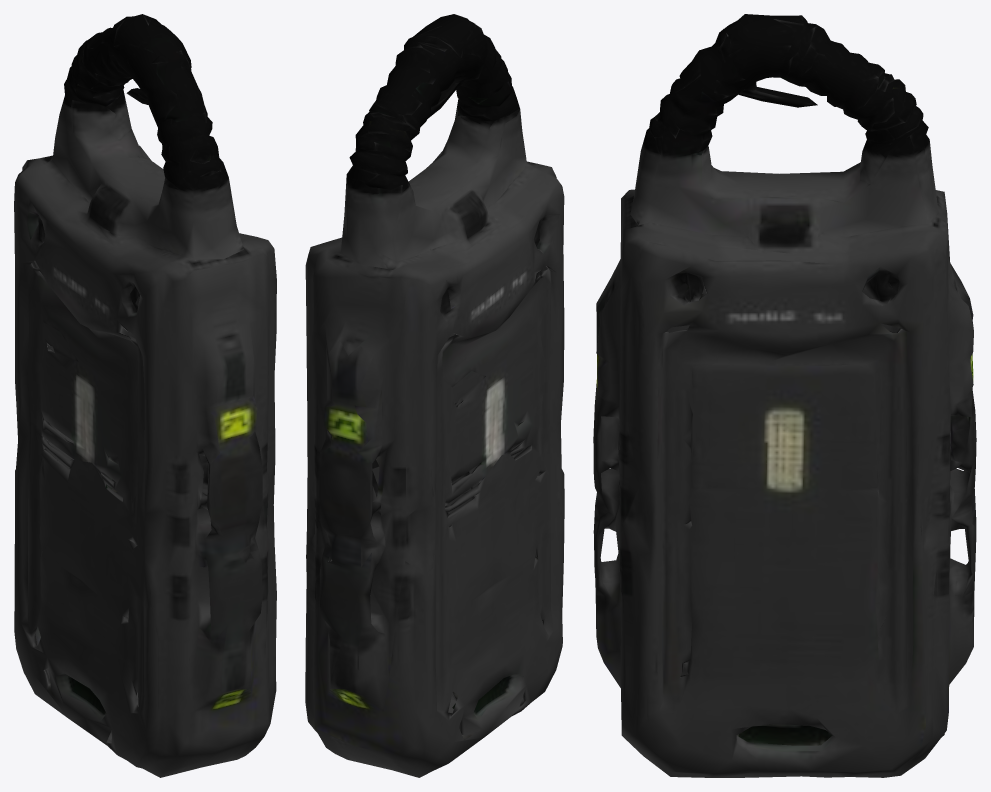
File: testimony_drive.glb
The picture shows the model from 3 angles, left to right: view 1: azimuth 30°, elevation 25°; view 2: azimuth 150°, elevation 25°; view 3: azimuth 270°, elevation 25°; orthographic projection. The views are drawn at different scales.
Visible parts, largest first — view 1: geometry_0; view 2: geometry_0; view 3: geometry_0.
Boxes of the visible parts, x1,y1,x2,y2 form: geometry_0: (14,14,276,777); geometry_0: (305,14,564,777); geometry_0: (593,14,976,777).
Bounding box in the file's own units: 0.1901 × 1 × 0.4676.
Materials: 1 (1 with a texture image).
